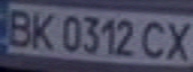0: (57, 11, 81, 53)
1: (97, 15, 118, 56)
2: (115, 16, 142, 58)
3: (78, 12, 103, 55)
B: (3, 6, 39, 48)
C: (139, 17, 172, 61)
K: (24, 8, 60, 52)
X: (160, 17, 193, 62)
